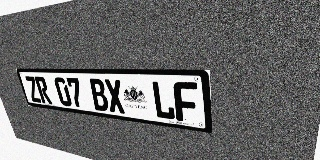0: (53, 77, 73, 107)
7: (65, 78, 86, 109)
B: (88, 78, 110, 112)
F: (173, 82, 199, 123)
L: (151, 81, 176, 120)
R: (34, 76, 53, 104)
X: (104, 79, 126, 114)
Z: (24, 76, 42, 103)
